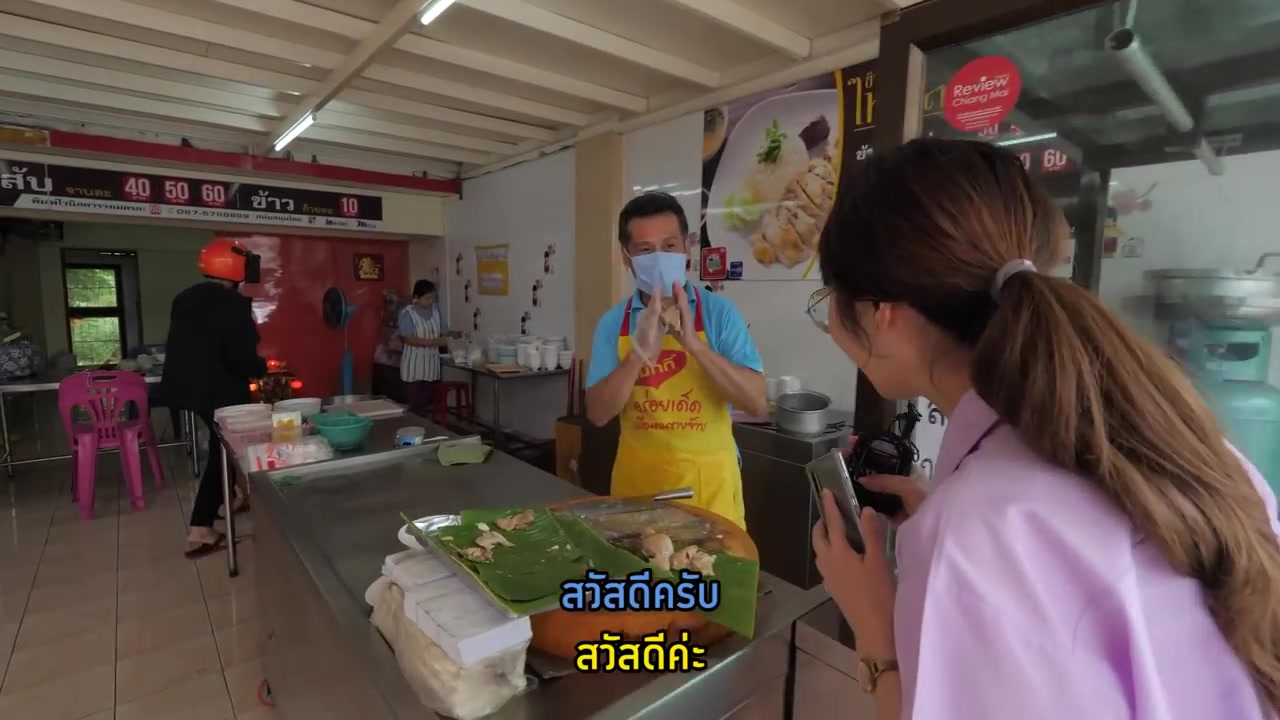text-label: (555, 566, 722, 612), (572, 629, 708, 672)
